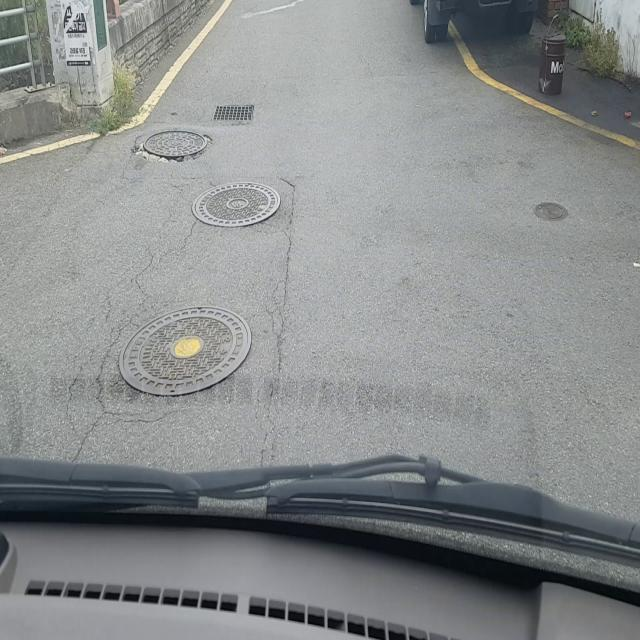Pothole: (132, 128, 212, 167)
